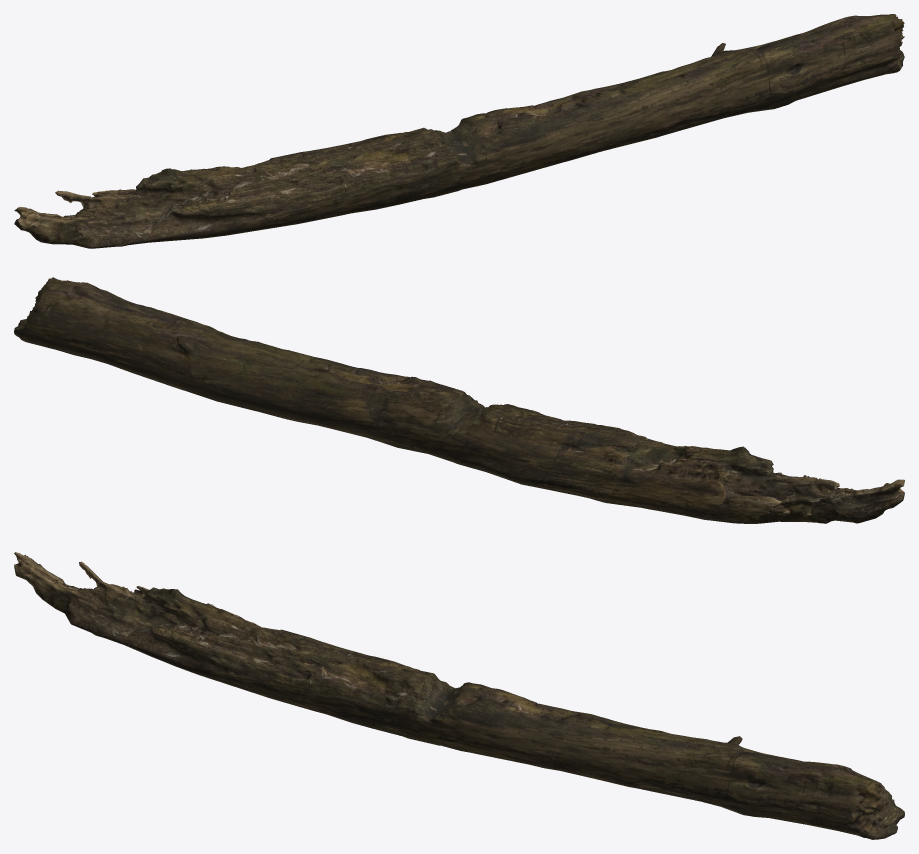
File: dead_tree_trunk.glb
3 renders of one model, top to bottom at view 1: azimuth 30°, elevation 25°; view 2: azimuth 150°, elevation 25°; view 3: azimuth 330°, elevation 25°, orthographic.
Visible parts, largest first — view 1: dead_tree_trunk; view 2: dead_tree_trunk; view 3: dead_tree_trunk.
Boxes of the visible parts, x1,y1,x2,y2 form: dead_tree_trunk: [14, 14, 904, 248]; dead_tree_trunk: [14, 277, 904, 523]; dead_tree_trunk: [14, 552, 904, 839].
Size of the model in its own units: 3.05 by 0.2898 by 0.2773.
Materials: 1 (1 with a texture image).
